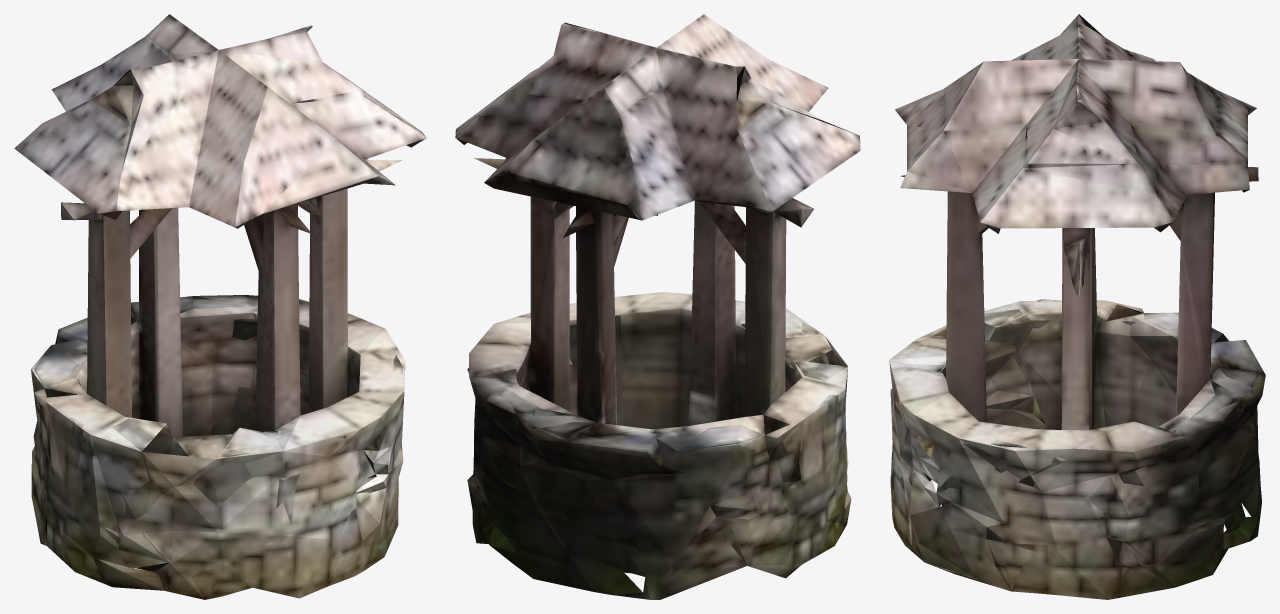
File: ga3_well_lod1.glb
3 views of the same model, side by side, from view 1: azimuth 30°, elevation 25°; view 2: azimuth 150°, elevation 25°; view 3: azimuth 270°, elevation 25° (orthographic). The views are drawn at different scales.
Visible parts, largest first — view 1: ga3_well_lod1; view 2: ga3_well_lod1; view 3: ga3_well_lod1.
Part boxes in pixels (box(x1,y1,x2,y2)): ga3_well_lod1: box(14, 14, 426, 599); ga3_well_lod1: box(455, 14, 860, 599); ga3_well_lod1: box(889, 14, 1265, 599).
Bounding box in the file's own units: 2.57 × 3.4 × 2.47.
Materials: 1 (1 with a texture image).
